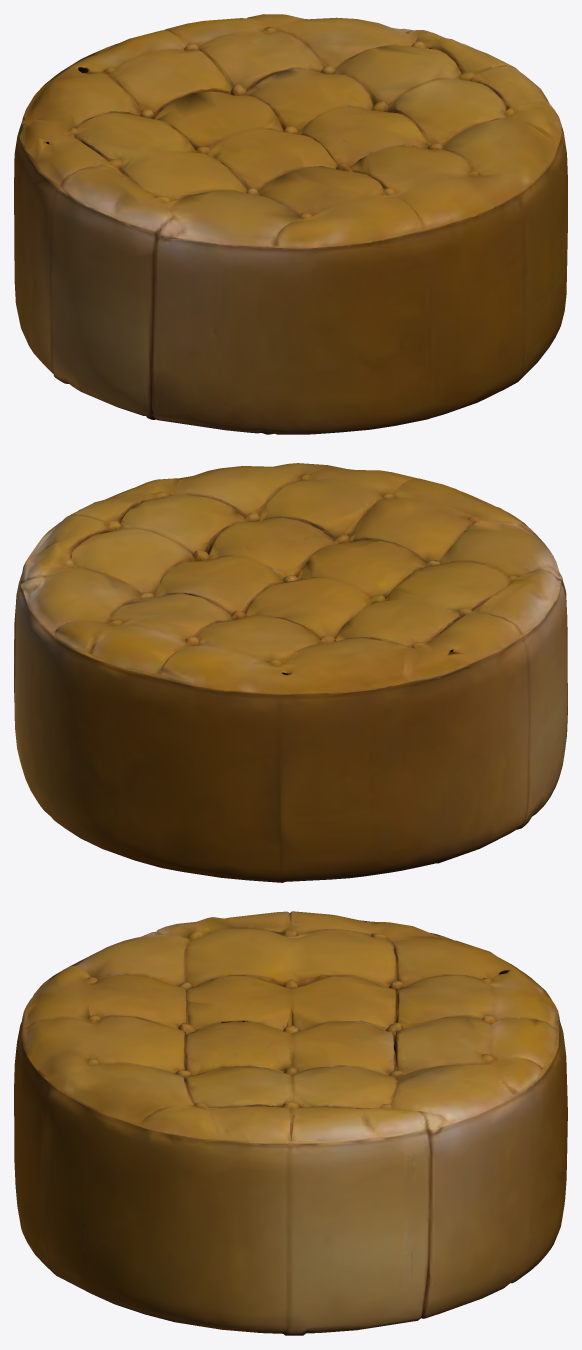
3 renders of one model, top to bottom at view 1: azimuth 30°, elevation 25°; view 2: azimuth 150°, elevation 25°; view 3: azimuth 270°, elevation 25°, orthographic.
Visible parts, largest first — view 1: geometry_0; view 2: geometry_0; view 3: geometry_0.
Boxes of the visible parts, left/top/right/bottom form: geometry_0: left=14, top=14, right=567, bottom=434; geometry_0: left=14, top=463, right=567, bottom=882; geometry_0: left=14, top=911, right=567, bottom=1335.
Size of the model in its own units: 0.9991 by 0.419 by 0.9982.
1 material, 1 textured.
